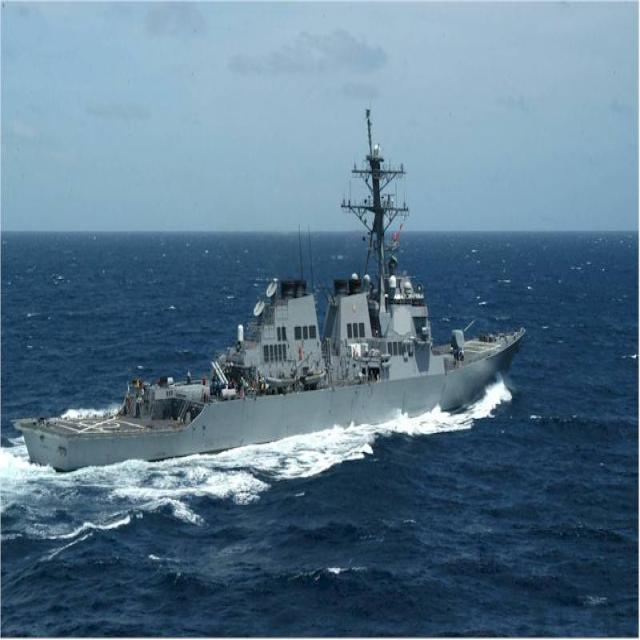navalvessels: (16, 96, 528, 470)
